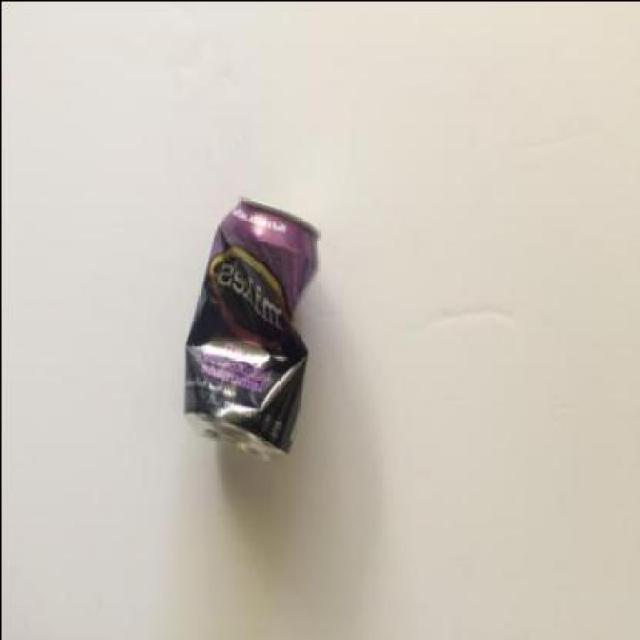METAL: (180, 198, 317, 456)
